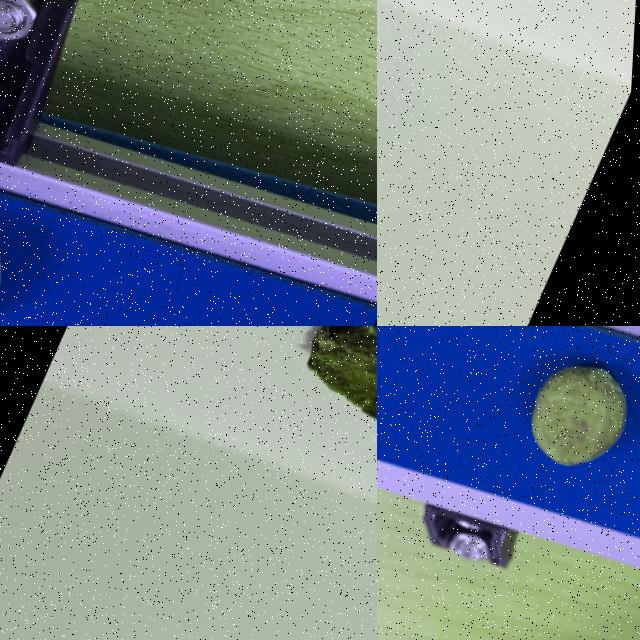Agglomerated_cocoabeans: (377, 0, 639, 180), (0, 95, 121, 325)
Fine_cocoabeans: (438, 326, 639, 523)
Flat_cocoabeans: (164, 326, 376, 528)
